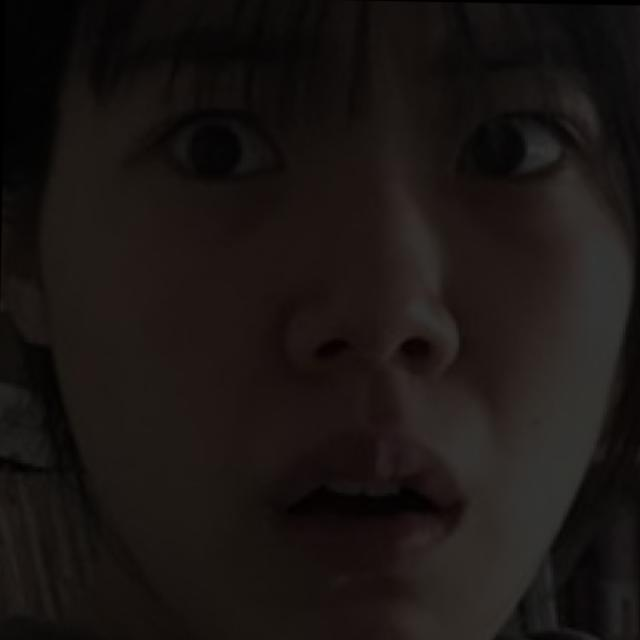Surprised: (60, 44, 632, 640)
